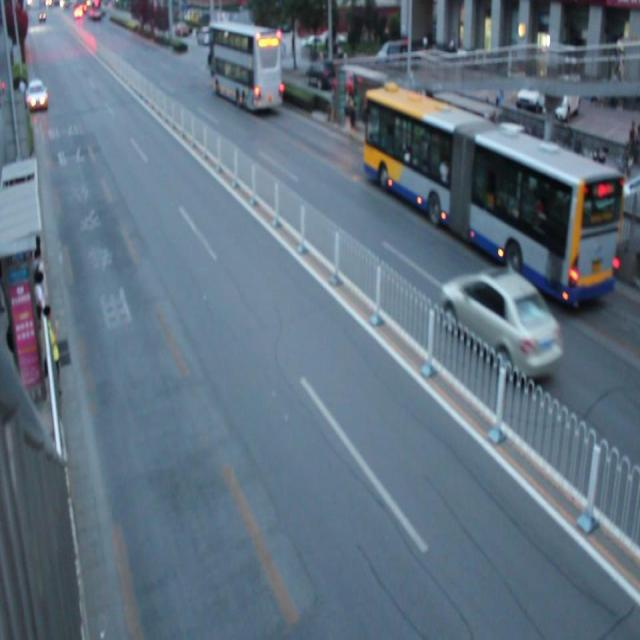car: (441, 269, 561, 384)
van: (363, 88, 620, 303), (206, 20, 283, 112)
